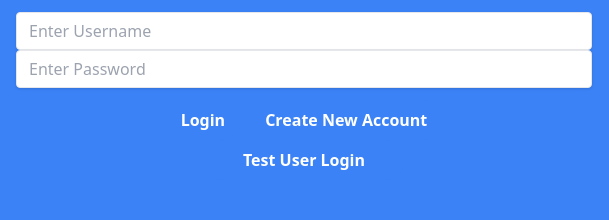
Test: Login Component › renders error on incorrect login
Click the button "Login" at (203, 120), box [165, 100, 241, 140]
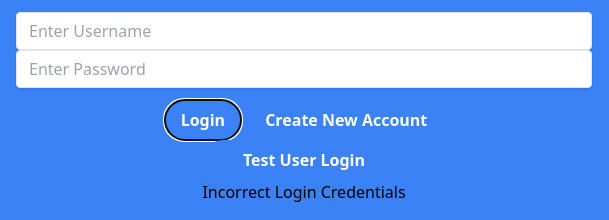
Now the text "Incorrect Login Credentials" is shown, box [202, 181, 406, 203]
